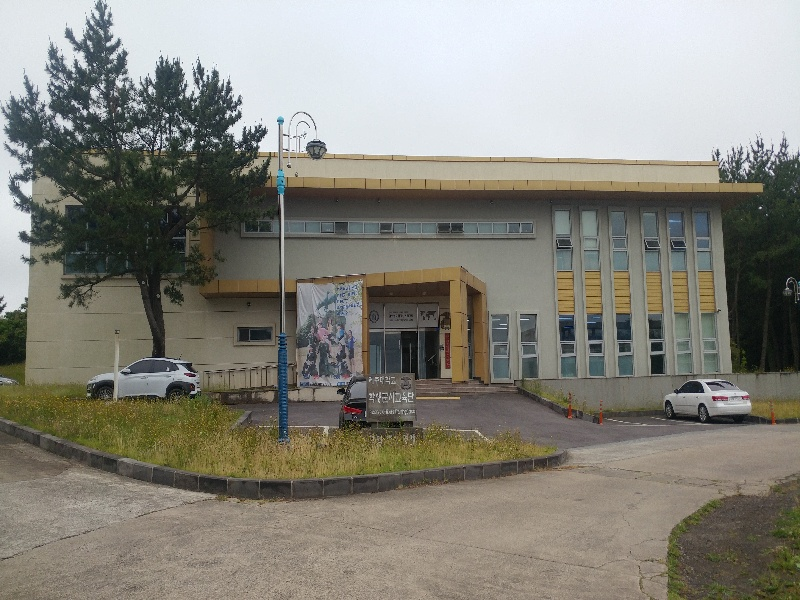Military Education Unit: (27, 130, 749, 452), (28, 148, 731, 383), (304, 272, 484, 374), (366, 372, 419, 427)
